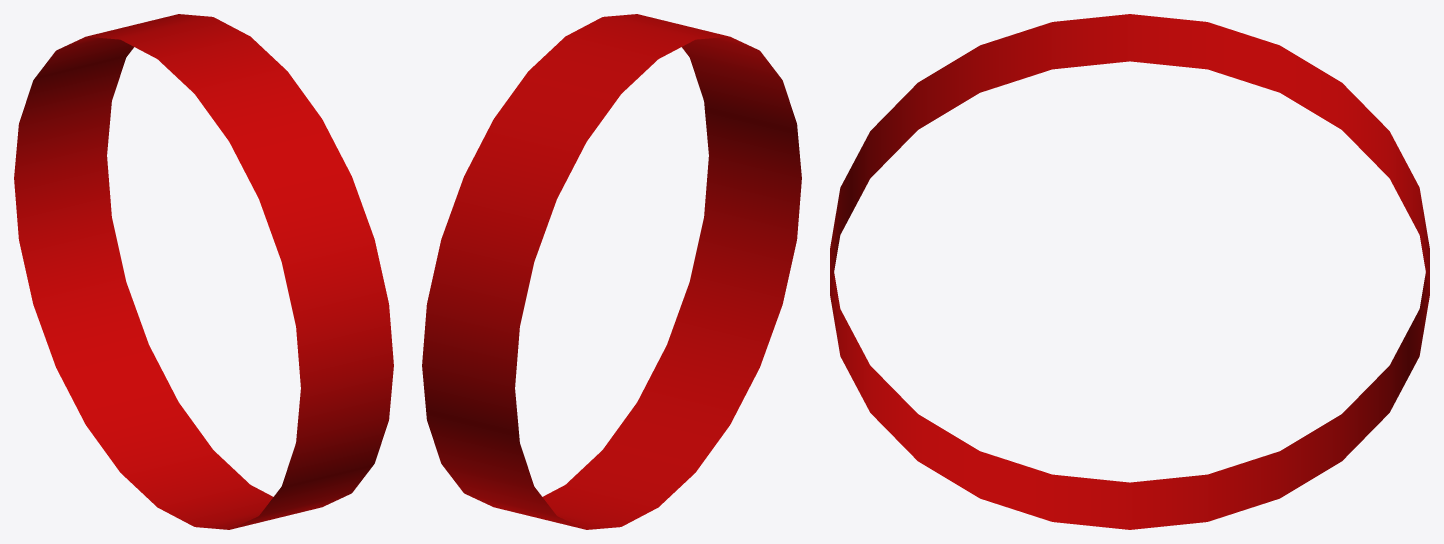
Rendered from original-29.obj.
3 renders of one model, left to right at view 1: azimuth 30°, elevation 25°; view 2: azimuth 150°, elevation 25°; view 3: azimuth 270°, elevation 25°, orthographic. The views are drawn at different scales.
Parts seen in each view (by area): view 1: mesh12/mesh12-geometry/material_1/component_12#mesh12-geometry; view 2: mesh12/mesh12-geometry/material_1/component_12#mesh12-geometry; view 3: mesh12/mesh12-geometry/material_1/component_12#mesh12-geometry.
Boxes of the visible parts, bbox=[...] form: mesh12/mesh12-geometry/material_1/component_12#mesh12-geometry: bbox=[14, 14, 393, 529]; mesh12/mesh12-geometry/material_1/component_12#mesh12-geometry: bbox=[422, 14, 801, 529]; mesh12/mesh12-geometry/material_1/component_12#mesh12-geometry: bbox=[830, 14, 1429, 529].
Bounding box in the file's own units: 0.00689 × 0.0317 × 0.0368.
